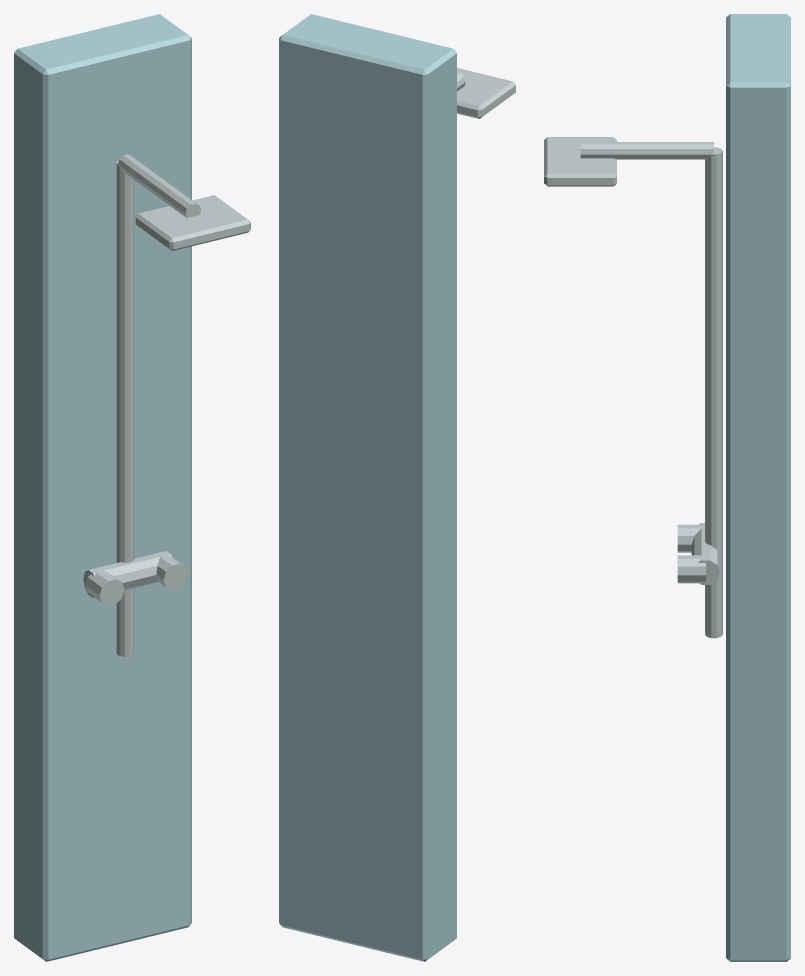
Rendered from facility_shower.glb.
3 views of the same model, side by side, from view 1: azimuth 30°, elevation 25°; view 2: azimuth 150°, elevation 25°; view 3: azimuth 270°, elevation 25° (orthographic).
Parts seen in each view (by area): view 1: VIS_formal_wainscot, VIS_brushed_stainless; view 2: VIS_formal_wainscot, VIS_brushed_stainless; view 3: VIS_formal_wainscot, VIS_brushed_stainless.
Part boxes in pixels (x1,y1,x2,y2): VIS_formal_wainscot: (14,14,191,961); VIS_brushed_stainless: (83,154,250,656); VIS_formal_wainscot: (279,14,456,961); VIS_brushed_stainless: (457,68,515,118); VIS_formal_wainscot: (726,14,790,961); VIS_brushed_stainless: (544,137,722,638).
Size of what is drawn, in the model's own units: 0.42 by 2.4 by 0.61.
